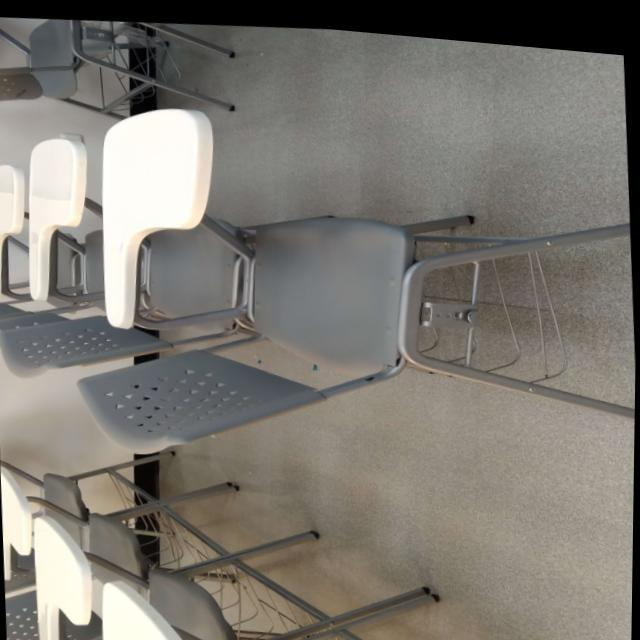chair: (55, 67, 639, 499)
